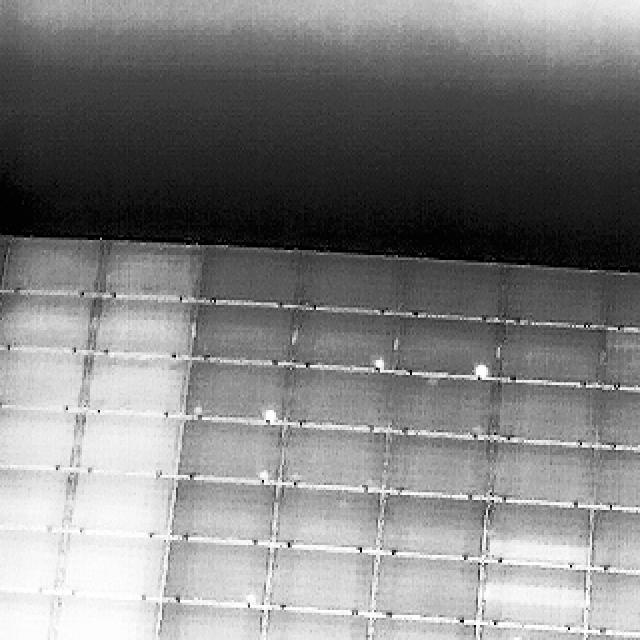Hotspots: (258, 404, 282, 426), (469, 360, 494, 380), (234, 588, 258, 605), (366, 354, 388, 372), (498, 627, 528, 640)
PV-modules: (54, 529, 170, 601), (263, 544, 376, 615), (159, 536, 270, 608), (483, 502, 596, 571), (67, 469, 176, 540), (370, 550, 480, 620), (167, 476, 276, 546), (380, 433, 492, 501), (272, 486, 384, 554), (478, 559, 590, 627), (384, 375, 497, 441), (284, 366, 396, 432), (74, 409, 181, 478), (278, 427, 389, 493), (378, 496, 488, 562), (496, 323, 609, 387), (492, 441, 601, 507), (88, 296, 197, 362), (181, 357, 291, 422), (498, 265, 614, 326), (190, 246, 304, 308), (177, 414, 282, 481), (492, 382, 598, 447), (81, 351, 190, 414), (187, 303, 296, 366), (392, 316, 500, 378), (291, 311, 399, 373), (397, 257, 502, 320), (300, 252, 405, 314), (96, 241, 202, 302), (1, 240, 103, 298), (0, 292, 91, 354), (44, 592, 160, 640), (1, 346, 87, 410), (0, 404, 76, 469), (150, 600, 264, 640), (0, 468, 66, 532), (0, 529, 61, 595), (254, 605, 368, 640), (582, 572, 640, 640), (586, 508, 640, 578), (590, 388, 640, 452), (362, 612, 476, 640), (592, 448, 640, 512), (598, 325, 640, 390), (600, 268, 640, 332), (0, 590, 50, 640), (478, 622, 586, 640), (578, 635, 640, 640)
